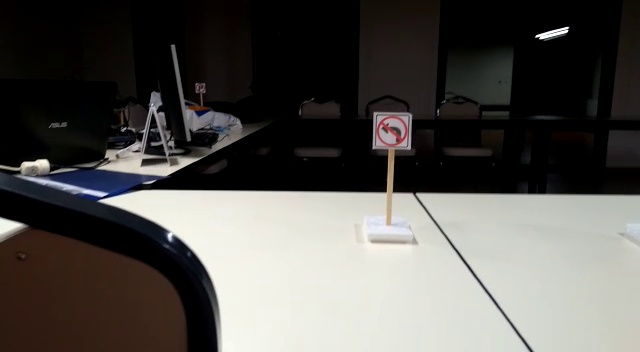sola_donulmez: (370, 112, 412, 149)
